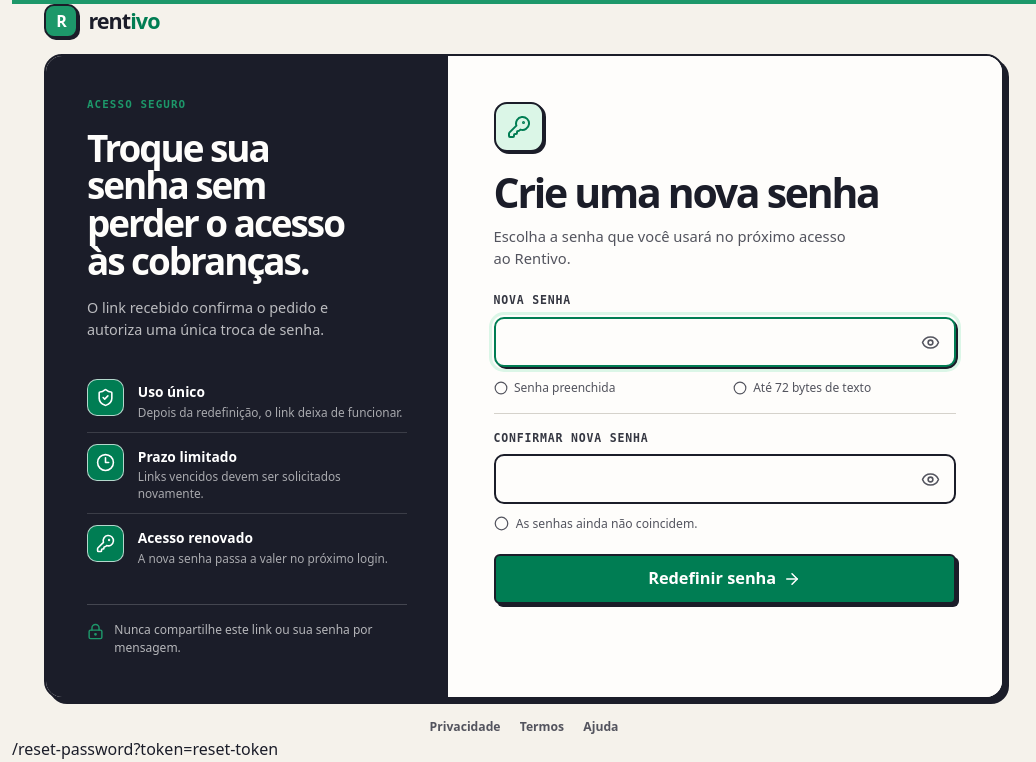
Scenario: ResetPasswordPage › shows specific and generic errors for other reset failures
Type "new-password" into the password field labelled "Nova senha".
click(725, 342); type("new-password")  # box [494,317,956,367]
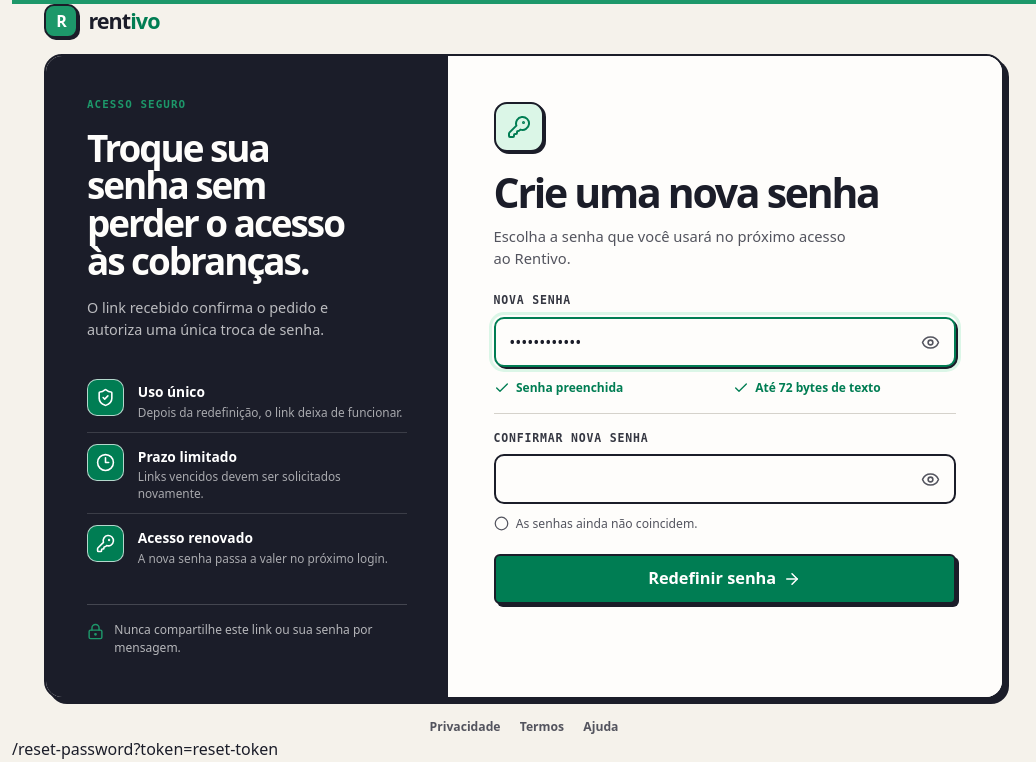
Type "new-password" into the password field labelled "Confirmar nova senha".
click(725, 479); type("new-password")  # box [494,454,956,504]
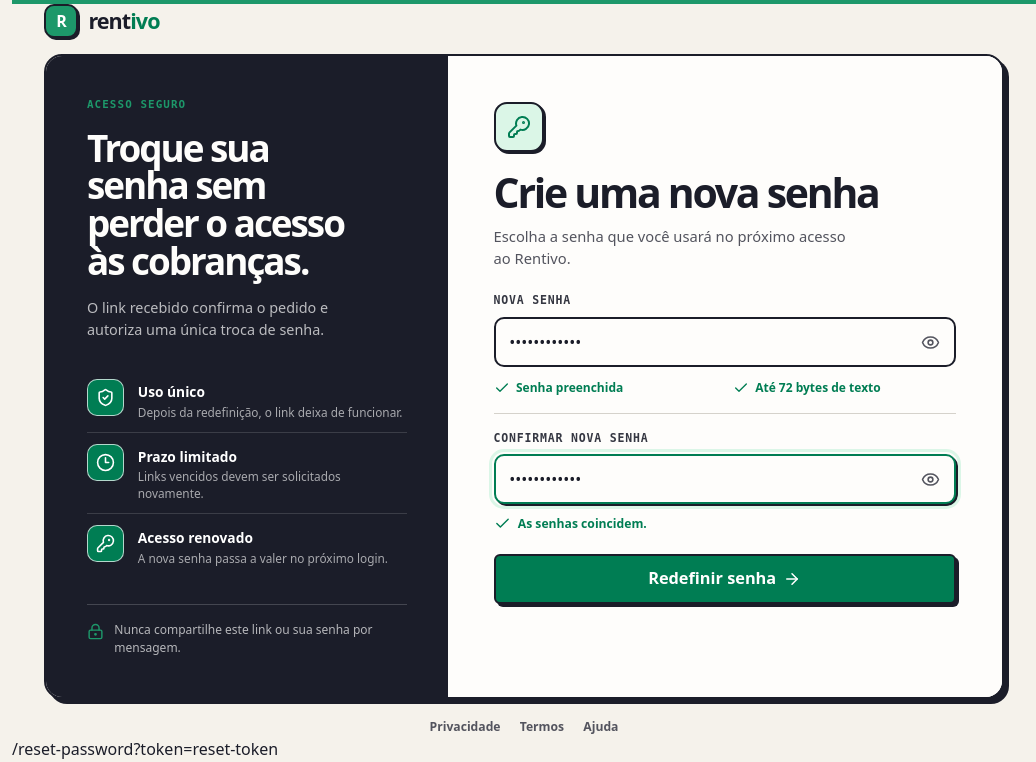
Click the button "Redefinir senha".
click(725, 579)  # box [494,554,956,604]
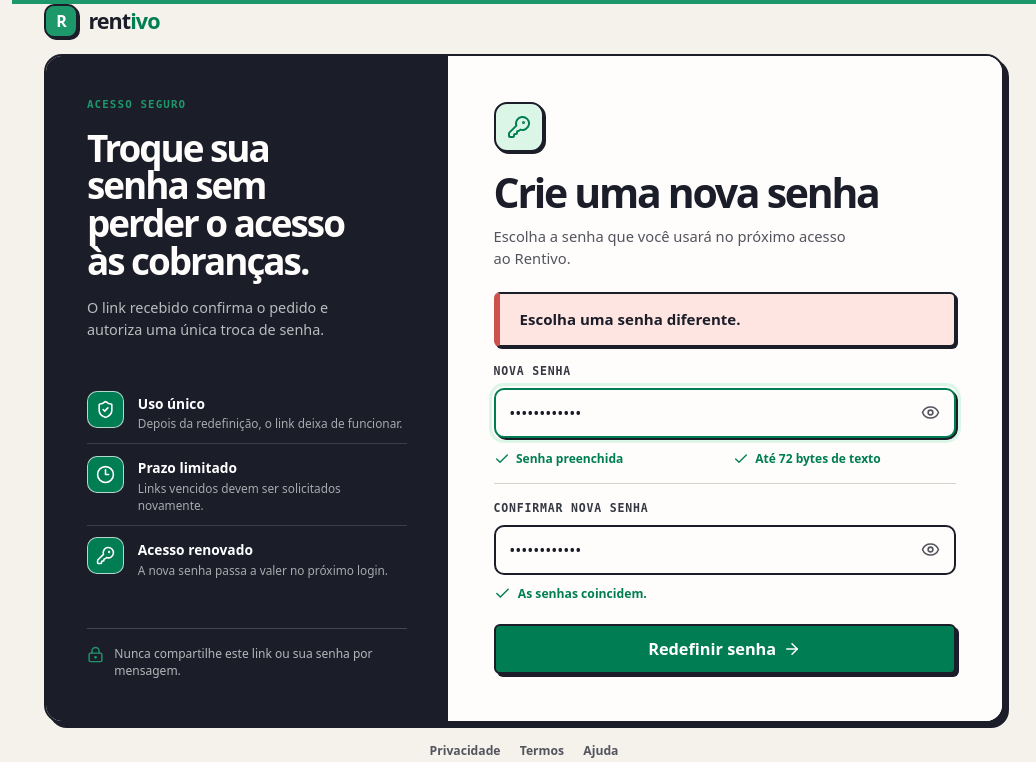
Now the message "Escolha uma senha diferente." is shown, box [494,292,956,347]
Click the button "Redefinir senha".
click(725, 650)  # box [494,624,956,674]
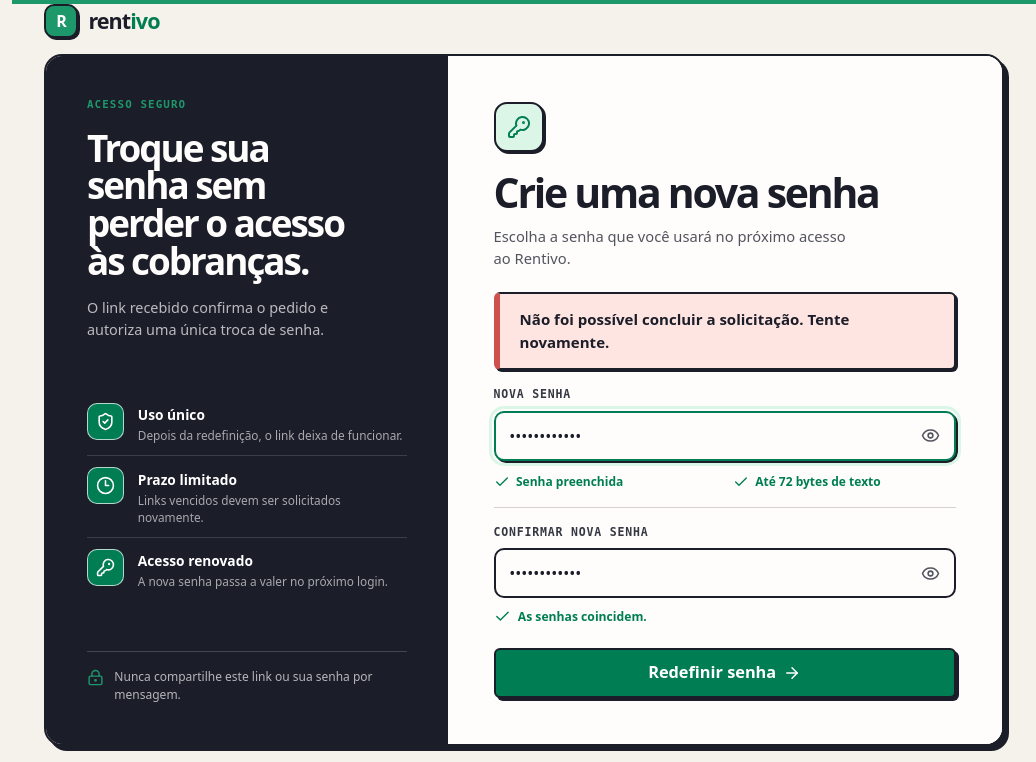
Now the message "Não foi possível concluir a solicitação. Tente novamente." is shown, box [494,292,956,370]
